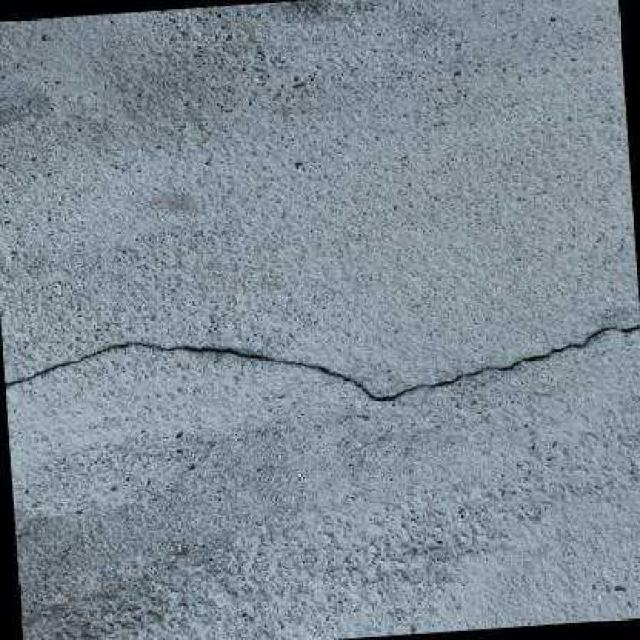D00: (4, 325, 640, 401)
